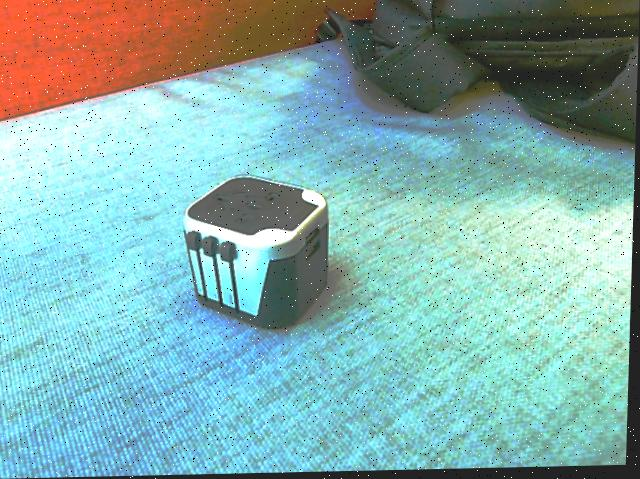adapter: (181, 175, 333, 332)
